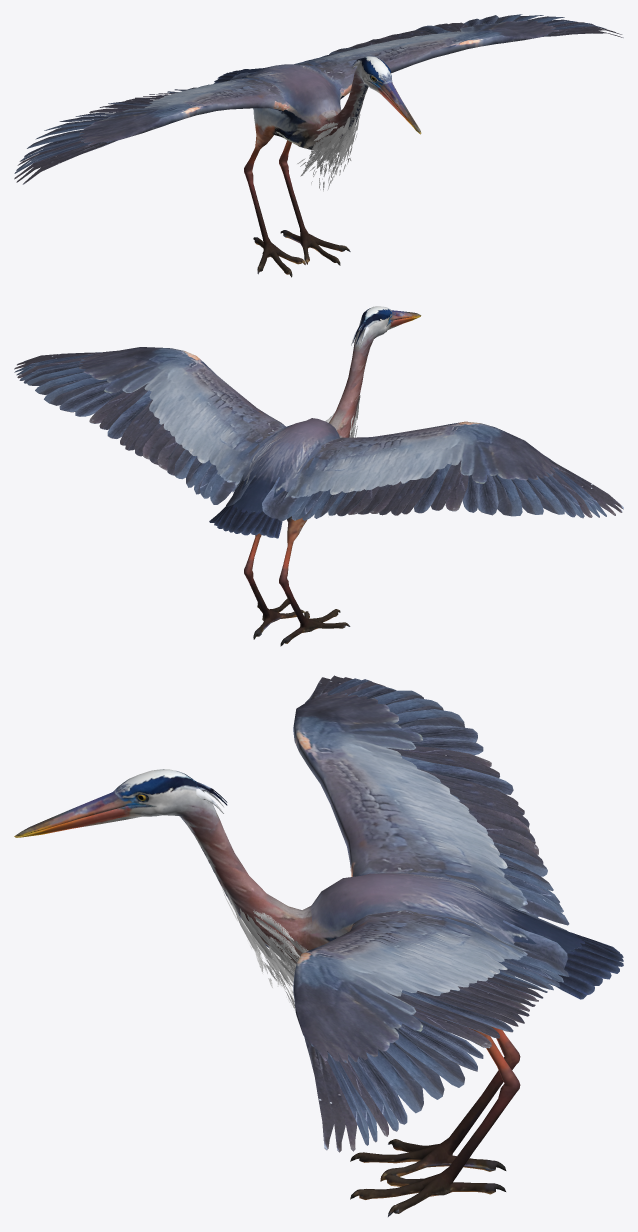
File: realistic_heron_3d_model.glb
3 renders of one model, top to bottom at view 1: azimuth 30°, elevation 25°; view 2: azimuth 150°, elevation 25°; view 3: azimuth 270°, elevation 25°, orthographic. The views are drawn at different scales.
Visible parts, largest first — view 1: sm_1_0_0_1, sm_2_0_0_0; view 2: sm_1_0_0_1; view 3: sm_1_0_0_1, sm_2_0_0_0.
Boxes of the visible parts, left/top/right/bottom form: sm_1_0_0_1: left=14, top=14, right=623, bottom=277; sm_2_0_0_0: left=297, top=114, right=360, bottom=191; sm_1_0_0_1: left=14, top=306, right=623, bottom=646; sm_1_0_0_1: left=14, top=675, right=623, bottom=1216; sm_2_0_0_0: left=222, top=889, right=308, bottom=1010.
Bounding box in the file's own units: 1.31 × 0.5304 × 0.7128.
2 materials, 2 textured.
